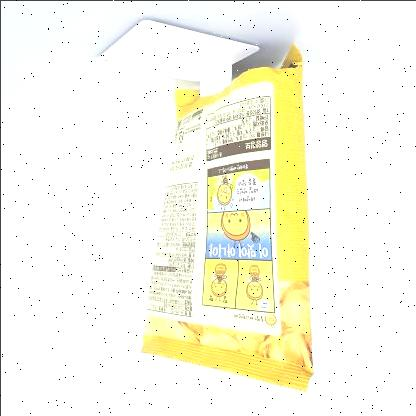Others: (128, 35, 324, 401)
